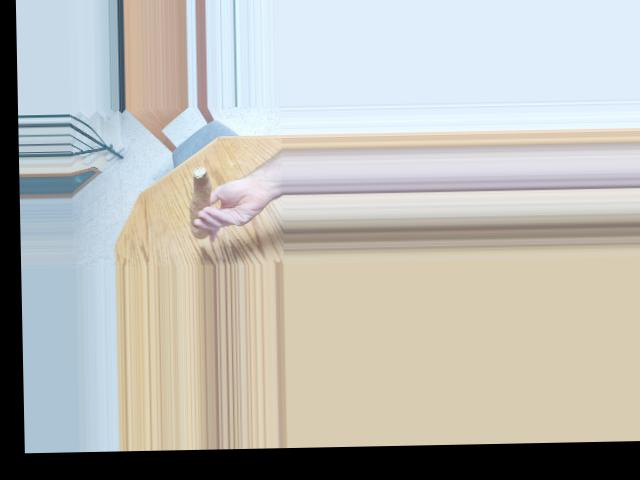sweet_potato: (181, 174, 210, 233)
